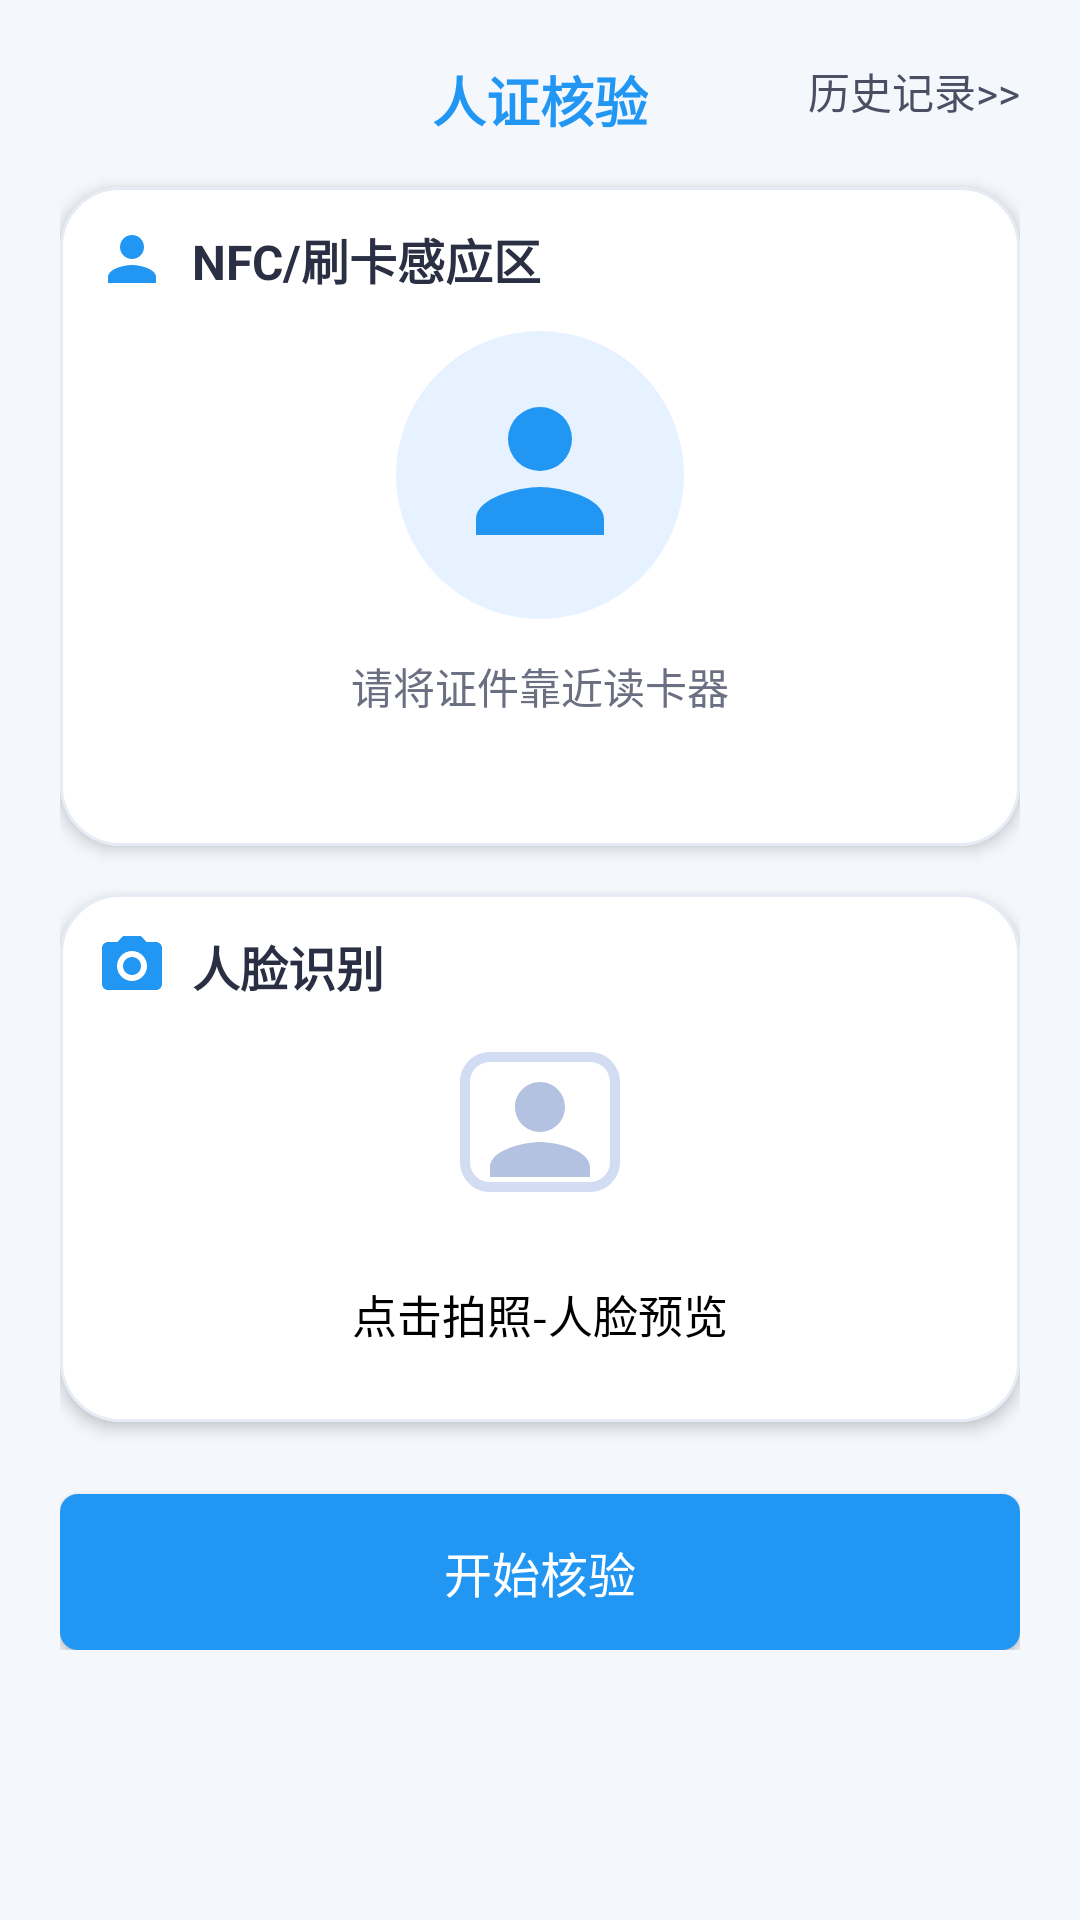

Icon click points for this 1080×1920 phone screenshot, format [x,y]:
camera: [132,963]
card person: [540,475]
person: [132,259]
